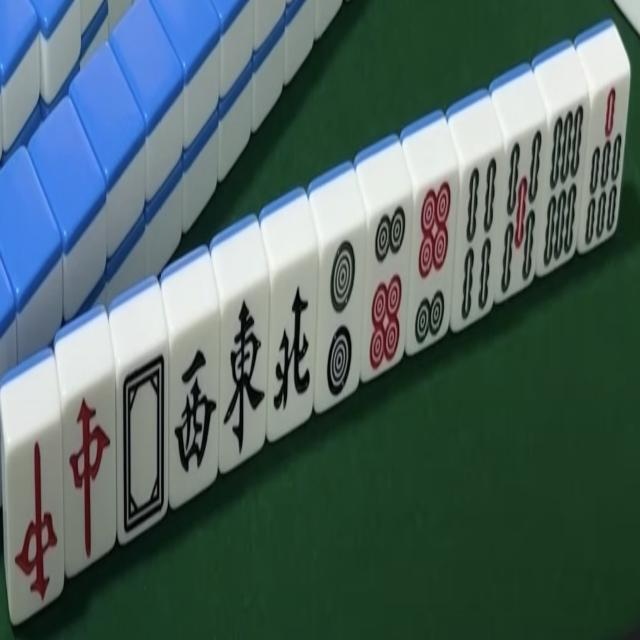2D: (324, 238, 358, 402)
4B: (460, 150, 496, 316)
5B: (501, 130, 548, 296)
6B: (544, 102, 588, 275)
6D: (411, 180, 452, 350), (366, 196, 404, 377)
7B: (586, 78, 622, 250)
EW: (222, 284, 265, 463)
NW: (272, 261, 317, 432)
RD: (1, 415, 62, 630), (63, 377, 117, 580)
WD: (119, 353, 168, 533)
WW: (170, 330, 216, 493)
